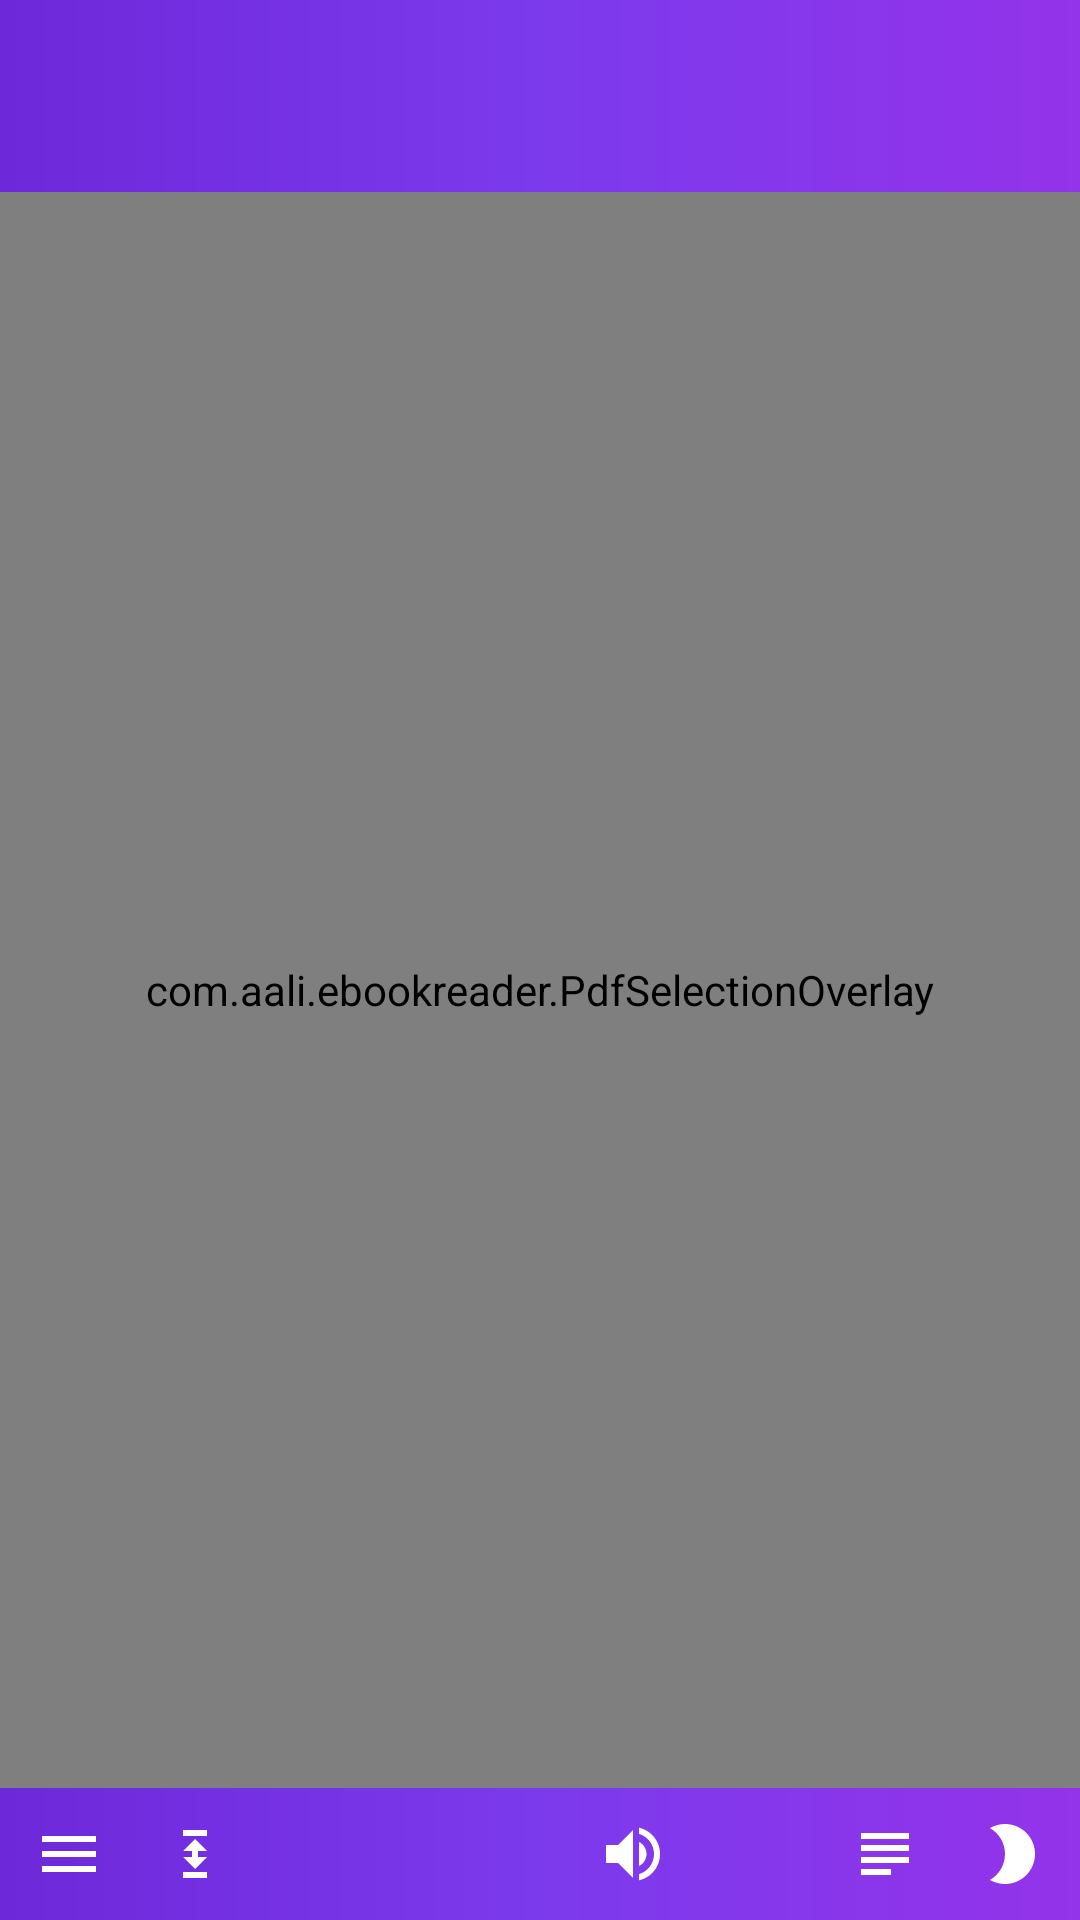

Icons on this 1080*1920 Android screen, each with the point to tap as (x,y):
Night mode: (1012,1854)
Page text mode: (885,1854)
Read aloud: (633,1854)
